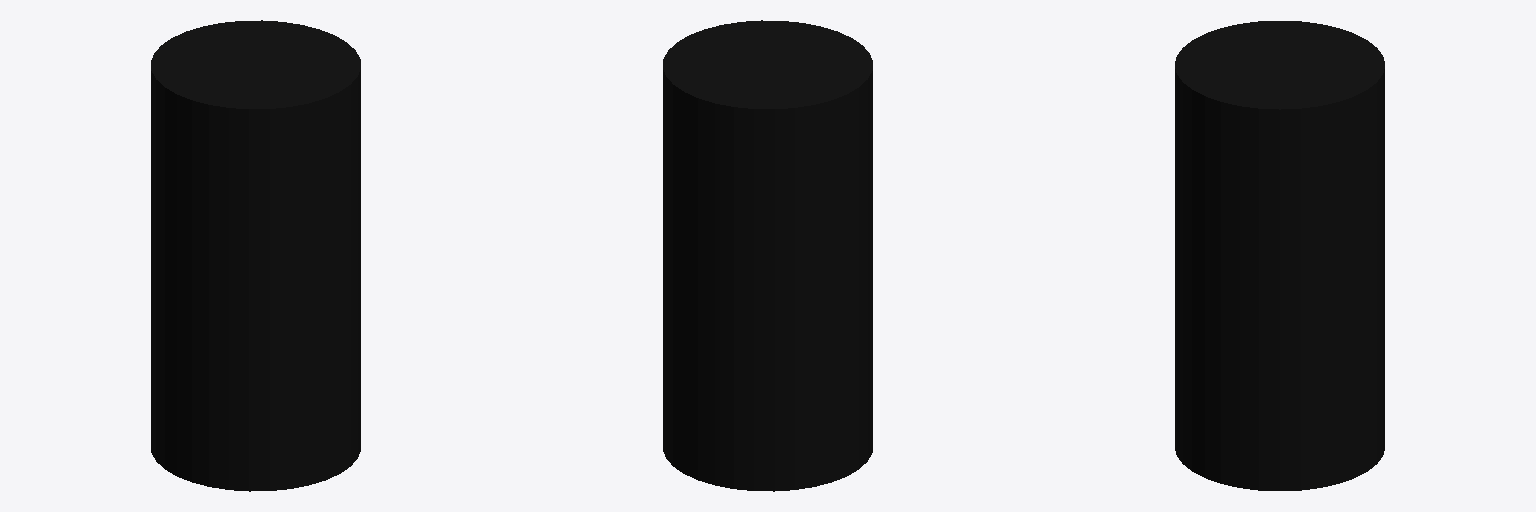
The robot description file, URDF, robot "cylinder":
<?xml version="1.0"?>
<robot name="cylinder">
  <material name="wallmat">
    <color rgba="0.1 0.1 0.1 1"/>
  </material>

  <link name="wall_link">
    <inertial>
      <origin rpy="0 0 0" xyz="0 0 0"/>
      <mass value="0"/>
      <inertia ixx="0" ixy="0" ixz="0" iyy="0" iyz="0" izz="0"/>
    </inertial>
    <visual>
      <origin rpy="0 0 0" xyz="0.00 0.00 2.00"/>
      <geometry>
        <cylinder length="4.00" radius="1.00"/>
      </geometry>
      <material name="wallmat"/>
    </visual>
    <collision>
      <origin rpy="0 0 0" xyz="0.00 0.00 2.00"/>
      <geometry>
        <cylinder length="4.00" radius="1.00"/>
      </geometry>
    </collision>
  </link>

</robot>

--- Facts derived from the render (not from the file) ---
The picture shows the robot from 3 angles, left to right: view 1: azimuth 30°, elevation 25°; view 2: azimuth 150°, elevation 25°; view 3: azimuth 270°, elevation 25°; orthographic projection.
Robot: cylinder — 1 links, 0 joints (none); root link wall_link; default pose: every joint at zero.
Visible links, largest first — view 1: wall_link; view 2: wall_link; view 3: wall_link.
Link boxes in pixels (left/top/right/bottom): wall_link: left=151, top=20, right=360, bottom=491; wall_link: left=663, top=20, right=872, bottom=491; wall_link: left=1175, top=21, right=1384, bottom=490.
Size in the robot's own frame: 2 by 2 by 4 metres.
Geometry: primitives only (box / cylinder / sphere), no mesh files.